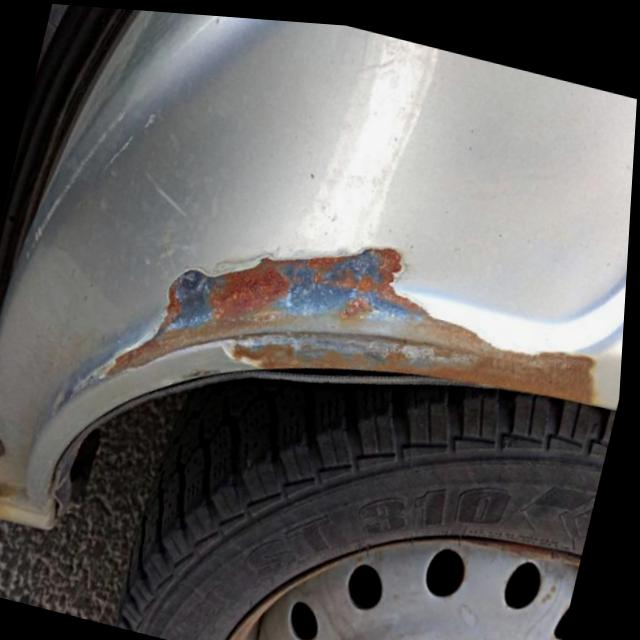Rust: (84, 243, 600, 407), (430, 537, 581, 570), (0, 479, 22, 523)
